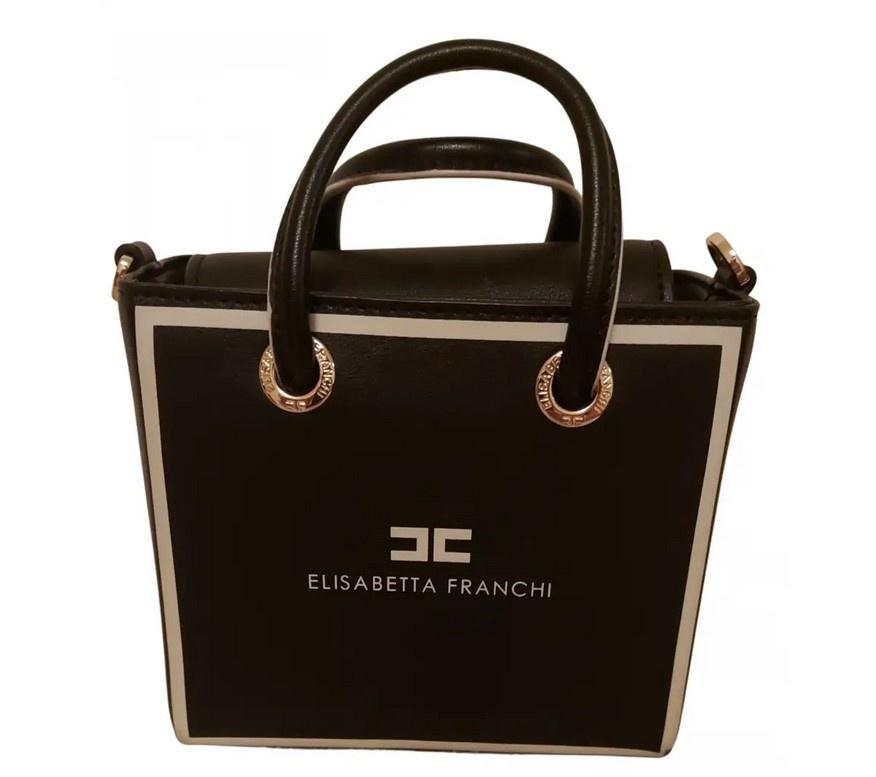ELISABETTA-FRANCHI: (386, 508, 488, 576)
